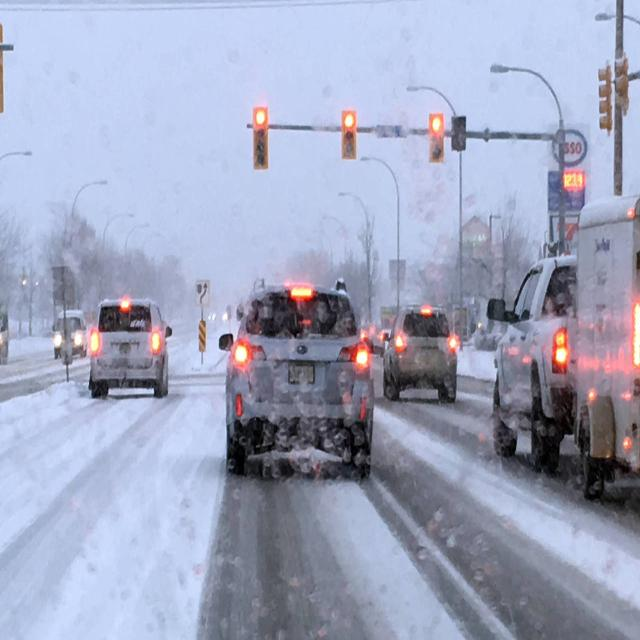car: (223, 277, 379, 482), (490, 239, 580, 478), (87, 291, 169, 397), (379, 308, 458, 403), (52, 309, 86, 363)
